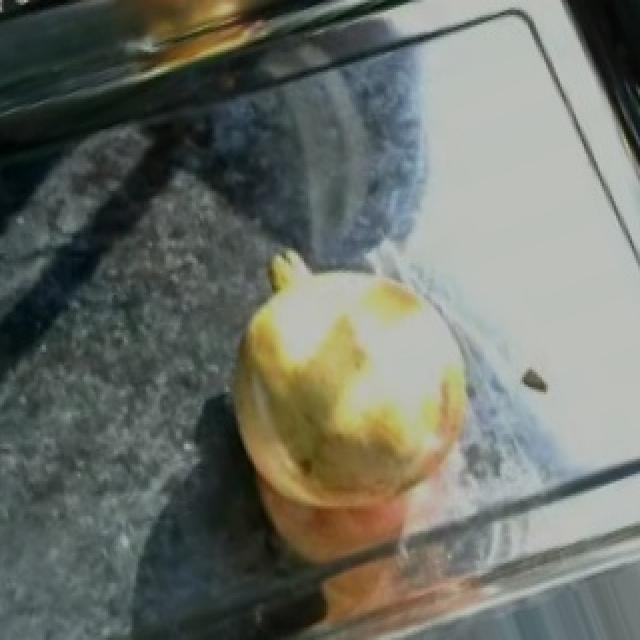fruit: (204, 226, 496, 498)
